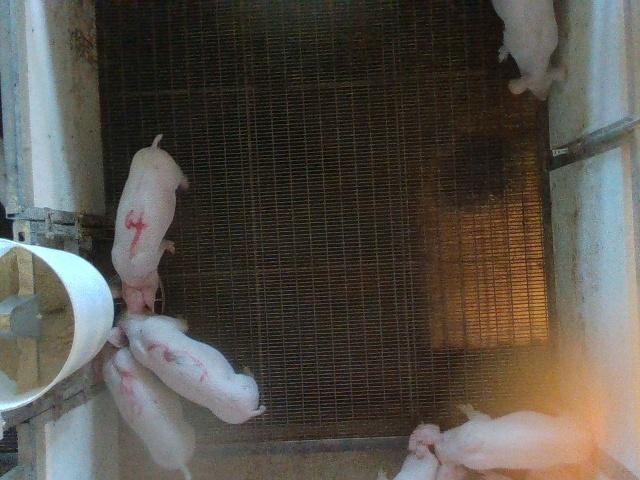pig-3: (120, 314, 264, 423)
pig-4: (112, 136, 188, 283)
pig-5: (102, 345, 195, 478)
